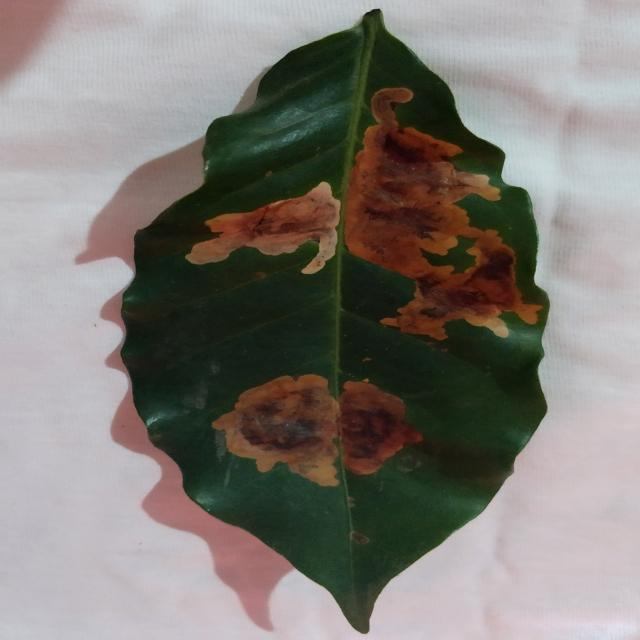PengorokDaunKopi: (346, 87, 544, 340), (212, 375, 423, 486), (185, 182, 340, 274), (255, 272, 266, 279), (363, 358, 371, 361)
